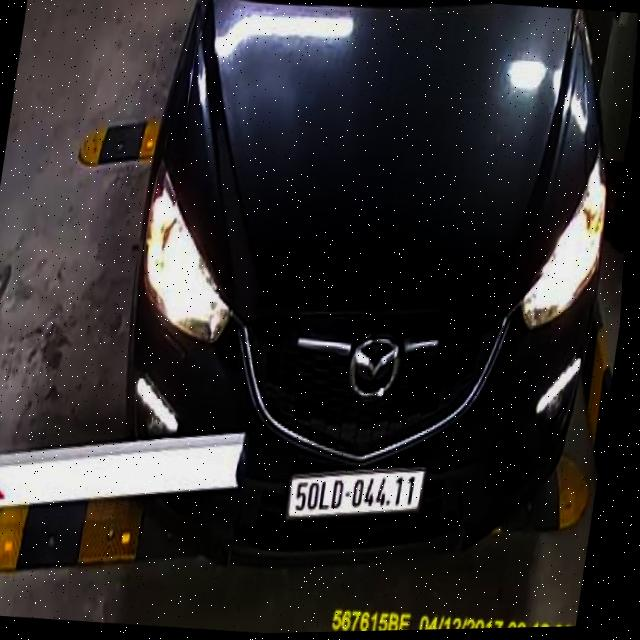car: (85, 0, 640, 607)
plate: (284, 462, 427, 532)
